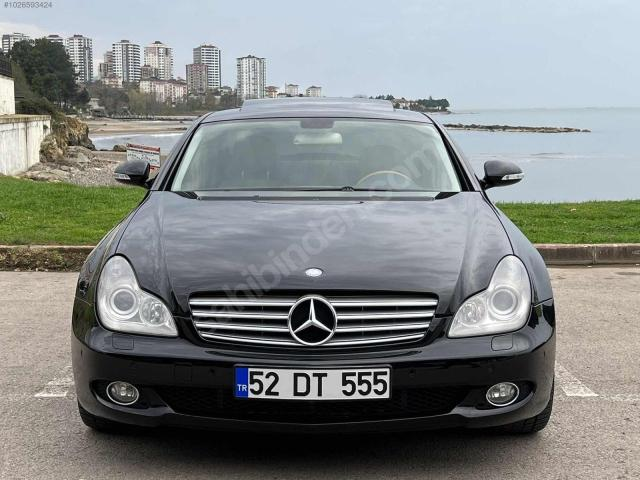plaka: (236, 368, 390, 400)
